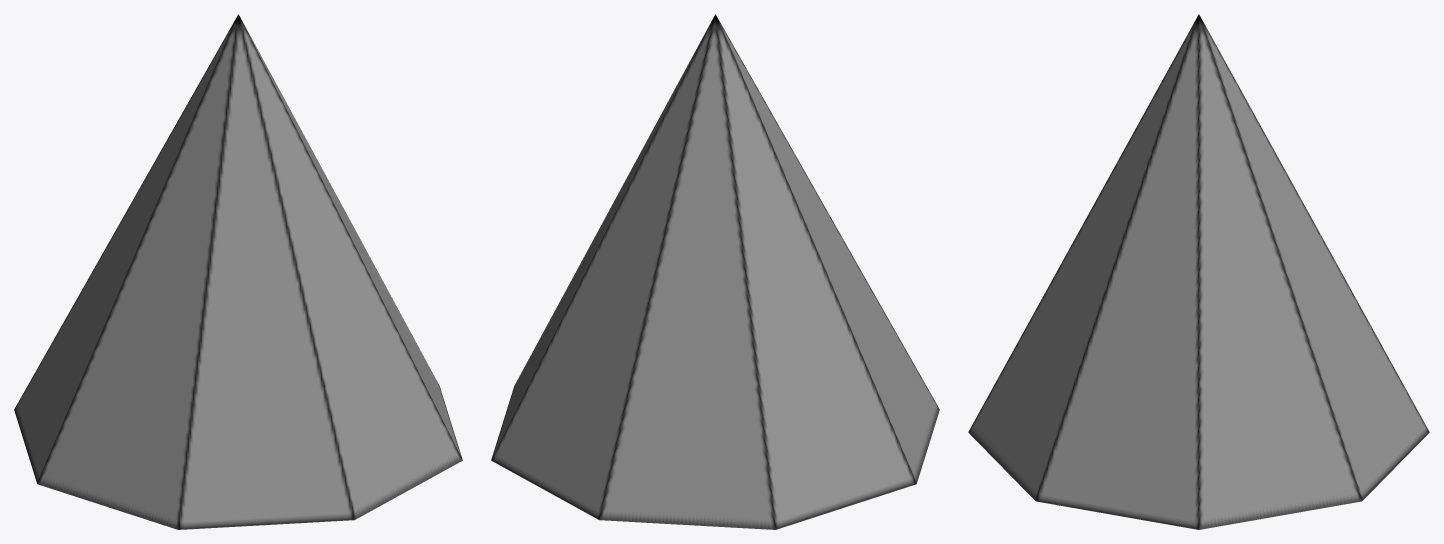
File: MOdelosdeassets.fbx_ConeBlenderPoliceAtack.fbx
3 views of the same model, side by side, from view 1: azimuth 30°, elevation 25°; view 2: azimuth 150°, elevation 25°; view 3: azimuth 270°, elevation 25° (orthographic).
Parts seen in each view (by area): view 1: ConeBlenderPoliceAtack; view 2: ConeBlenderPoliceAtack; view 3: ConeBlenderPoliceAtack.
Part boxes in pixels (<box>): ConeBlenderPoliceAtack: <box>14,14,462,529</box>; ConeBlenderPoliceAtack: <box>491,14,939,529</box>; ConeBlenderPoliceAtack: <box>968,14,1429,529</box>.
Size of the model in its own units: 200 by 200 by 200.
